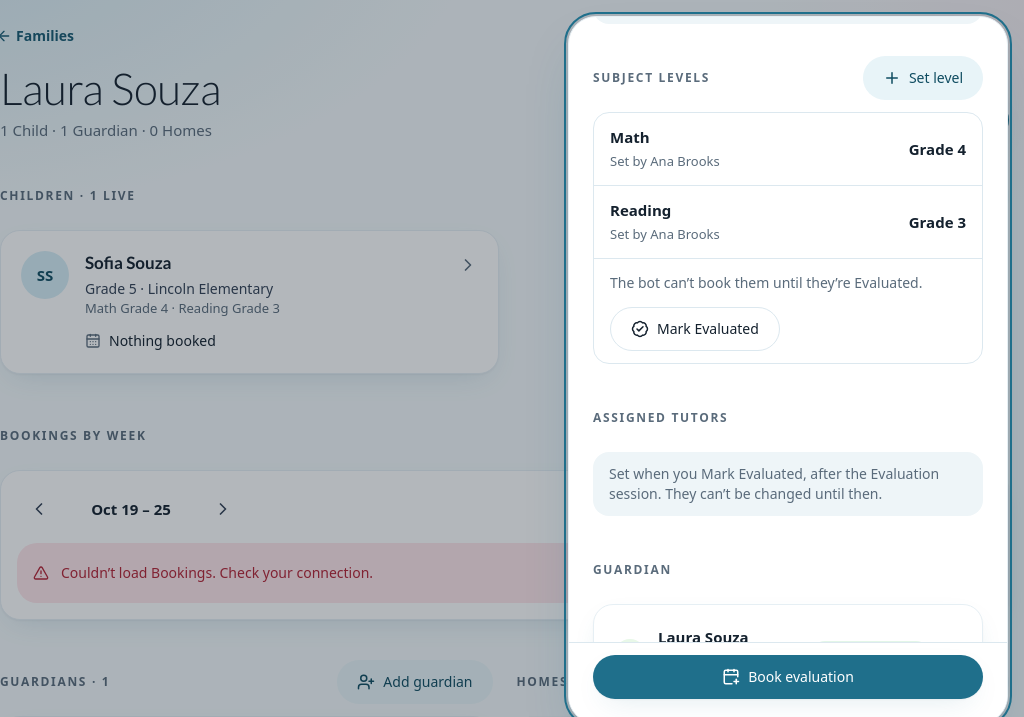
Test case: mark evaluated › pre-ticks the runner and prefills the levels
(page scrolled)
Click the button "Mark Evaluated": (695,329) [610,307,780,351]
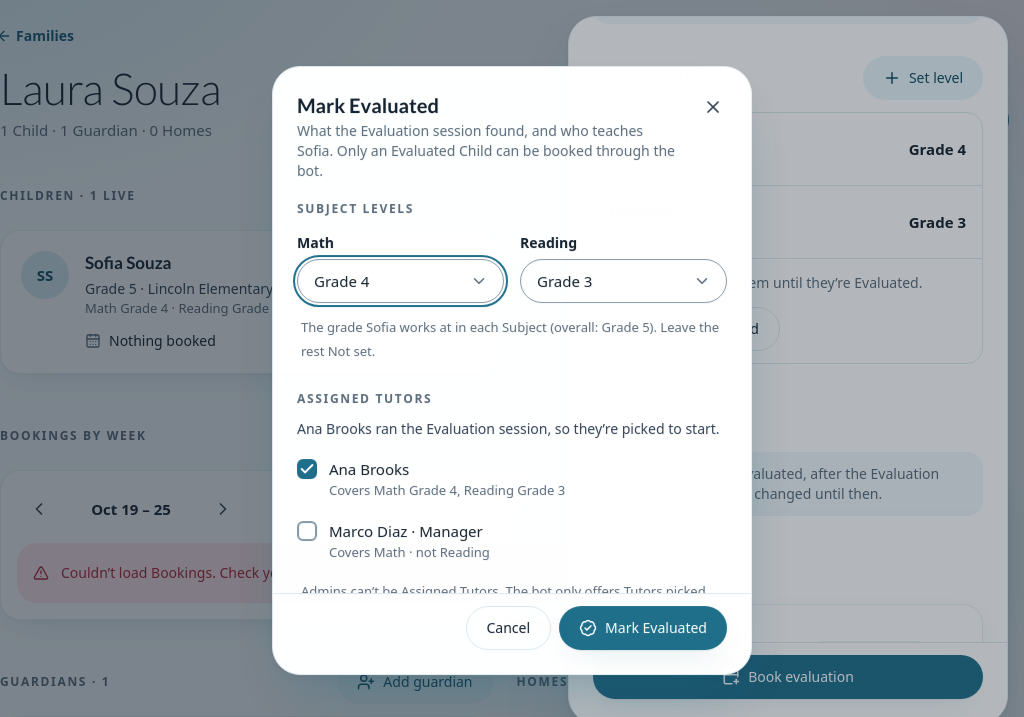
Expected: the dialog "Mark Evaluated" is shown, [272,66,752,674]
Expected: the checkbox labelled "Ana Brooks Covers Math Grade 4, Reading Grade 3" is checked, [297,458,317,478]
Expected: the checkbox labelled "Marco Diaz · Manager Covers Math · not Reading" is not checked, [297,520,317,540]
